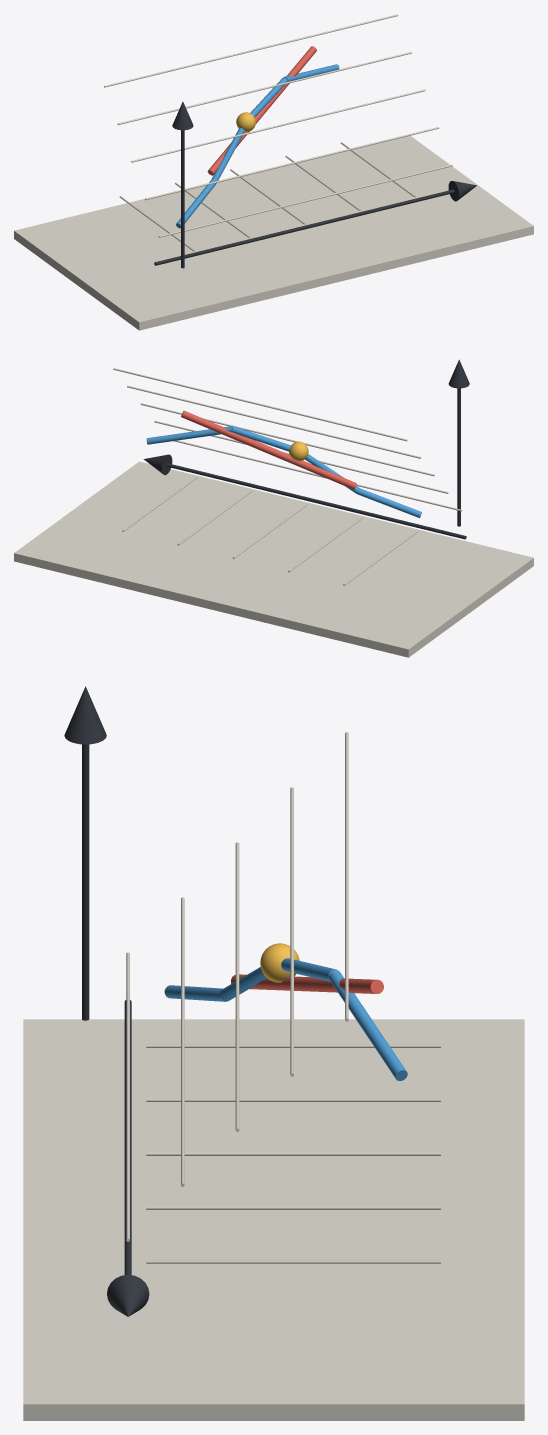
File: math-advanced-math-calc-tangent-slope.glb
The picture shows the model from 3 angles, top to bottom: view 1: azimuth 30°, elevation 25°; view 2: azimuth 150°, elevation 25°; view 3: azimuth 270°, elevation 25°; orthographic projection. The views are drawn at different scales.
Parts seen in each view (by area): view 1: advanced-math-base, math-calc-tangent-slope-x-axis-shaft, math-calc-tangent-slope-horizontal-grid-5, math-calc-tangent-slope-horizontal-grid-3, math-calc-tangent-slope-horizontal-grid-1, math-calc-tangent-slope-horizontal-grid-2, math-calc-tangent-slope-horizontal-grid-4, tangent-line-at-point, math-calc-tangent-slope-y-axis-shaft, smooth-function-curve-segment-2; view 2: advanced-math-base, tangent-line-at-point, math-calc-tangent-slope-x-axis-shaft, math-calc-tangent-slope-horizontal-grid-4, math-calc-tangent-slope-horizontal-grid-5, math-calc-tangent-slope-horizontal-grid-3, math-calc-tangent-slope-horizontal-grid-1, smooth-function-curve-segment-4, math-calc-tangent-slope-y-axis-shaft, math-calc-tangent-slope-horizontal-grid-2, smooth-function-curve-segment-1, smooth-function-curve-segment-3 (+1 smaller); view 3: advanced-math-base, math-calc-tangent-slope-y-axis-shaft, smooth-function-curve-segment-4, tangent-line-at-point, math-calc-tangent-slope-x-axis-shaft, math-calc-tangent-slope-horizontal-grid-3, math-calc-tangent-slope-y-axis-head, math-calc-tangent-slope-x-axis-head, math-calc-tangent-slope-vertical-grid-4, math-calc-tangent-slope-vertical-grid-5, math-calc-tangent-slope-vertical-grid-3, math-calc-tangent-slope-horizontal-grid-4 (+6 smaller).
Part boxes in pixels (x1=…): advanced-math-base: x1=14, y1=135, x2=533, y2=330; math-calc-tangent-slope-x-axis-shaft: x1=154, y1=189, x2=454, y2=265; math-calc-tangent-slope-horizontal-grid-5: x1=104, y1=14, x2=398, y2=87; math-calc-tangent-slope-horizontal-grid-3: x1=131, y1=89, x2=425, y2=162; math-calc-tangent-slope-horizontal-grid-1: x1=158, y1=164, x2=452, y2=237; math-calc-tangent-slope-horizontal-grid-2: x1=145, y1=127, x2=439, y2=200; math-calc-tangent-slope-horizontal-grid-4: x1=117, y1=52, x2=411, y2=124; tangent-line-at-point: x1=207, y1=46, x2=316, y2=175; math-calc-tangent-slope-y-axis-shaft: x1=181, y1=130, x2=184, y2=268; smooth-function-curve-segment-2: x1=211, y1=128, x2=244, y2=181; advanced-math-base: x1=14, y1=461, x2=533, y2=657; tangent-line-at-point: x1=181, y1=410, x2=356, y2=489; math-calc-tangent-slope-x-axis-shaft: x1=166, y1=463, x2=466, y2=539; math-calc-tangent-slope-horizontal-grid-4: x1=127, y1=385, x2=420, y2=458; math-calc-tangent-slope-horizontal-grid-5: x1=113, y1=368, x2=407, y2=441; math-calc-tangent-slope-horizontal-grid-3: x1=140, y1=403, x2=434, y2=476; math-calc-tangent-slope-horizontal-grid-1: x1=173, y1=440, x2=462, y2=511; smooth-function-curve-segment-4: x1=146, y1=426, x2=232, y2=444; math-calc-tangent-slope-y-axis-shaft: x1=457, y1=388, x2=460, y2=526; math-calc-tangent-slope-horizontal-grid-2: x1=154, y1=420, x2=448, y2=493; smooth-function-curve-segment-1: x1=357, y1=488, x2=421, y2=517; smooth-function-curve-segment-3: x1=232, y1=426, x2=290, y2=451; advanced-math-base: x1=23, y1=1019, x2=524, y2=1420; math-calc-tangent-slope-y-axis-shaft: x1=82, y1=744, x2=89, y2=1020; smooth-function-curve-segment-4: x1=328, y1=970, x2=407, y2=1080; tangent-line-at-point: x1=231, y1=974, x2=383, y2=993; math-calc-tangent-slope-x-axis-shaft: x1=124, y1=1000, x2=131, y2=1274; math-calc-tangent-slope-horizontal-grid-3: x1=235, y1=842, x2=239, y2=1131; math-calc-tangent-slope-y-axis-head: x1=64, y1=686, x2=106, y2=744; math-calc-tangent-slope-x-axis-head: x1=107, y1=1274, x2=149, y2=1316; math-calc-tangent-slope-vertical-grid-4: x1=146, y1=1206, x2=440, y2=1209; math-calc-tangent-slope-vertical-grid-5: x1=146, y1=1260, x2=440, y2=1263; math-calc-tangent-slope-vertical-grid-3: x1=146, y1=1152, x2=440, y2=1155; math-calc-tangent-slope-horizontal-grid-4: x1=290, y1=787, x2=293, y2=1076.
Size of what is drawn, in the model's own units: 3 by 1.48 by 1.65.
